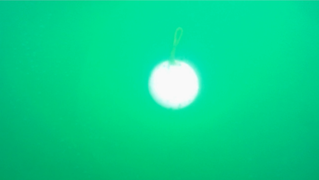buoy: (148, 60, 199, 109)
